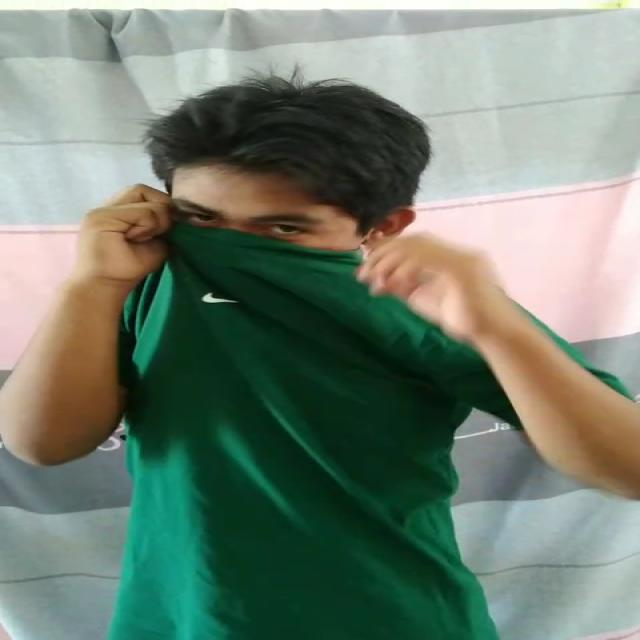8_ropa_rostro: (142, 216, 389, 331)
